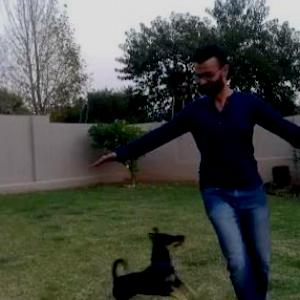land: (125, 55, 299, 289)
